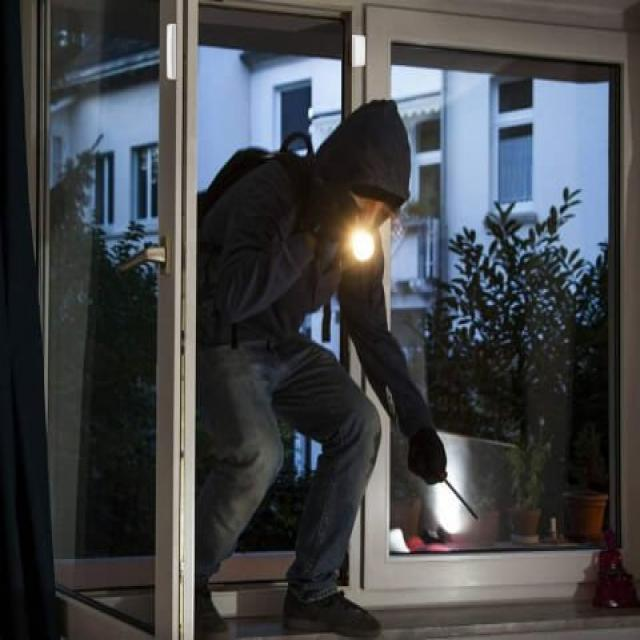intrusion detected: (194, 92, 451, 639)
